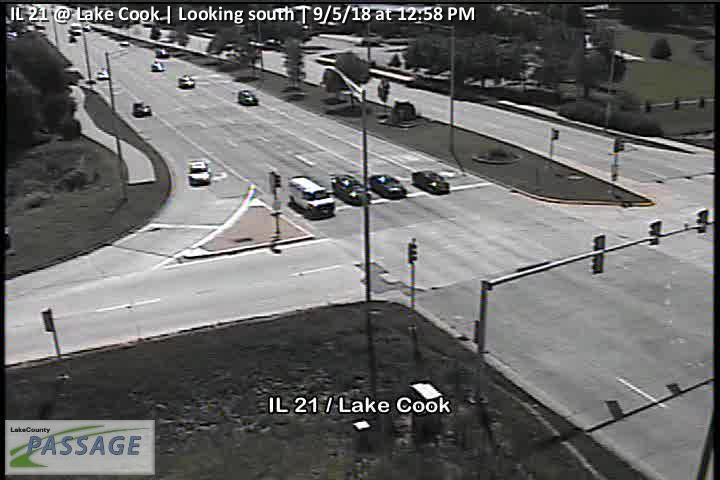SUV: (287, 176, 336, 217)
Sedan: (332, 173, 371, 205), (410, 170, 451, 195), (368, 173, 407, 198), (187, 159, 213, 187), (237, 88, 258, 106)
